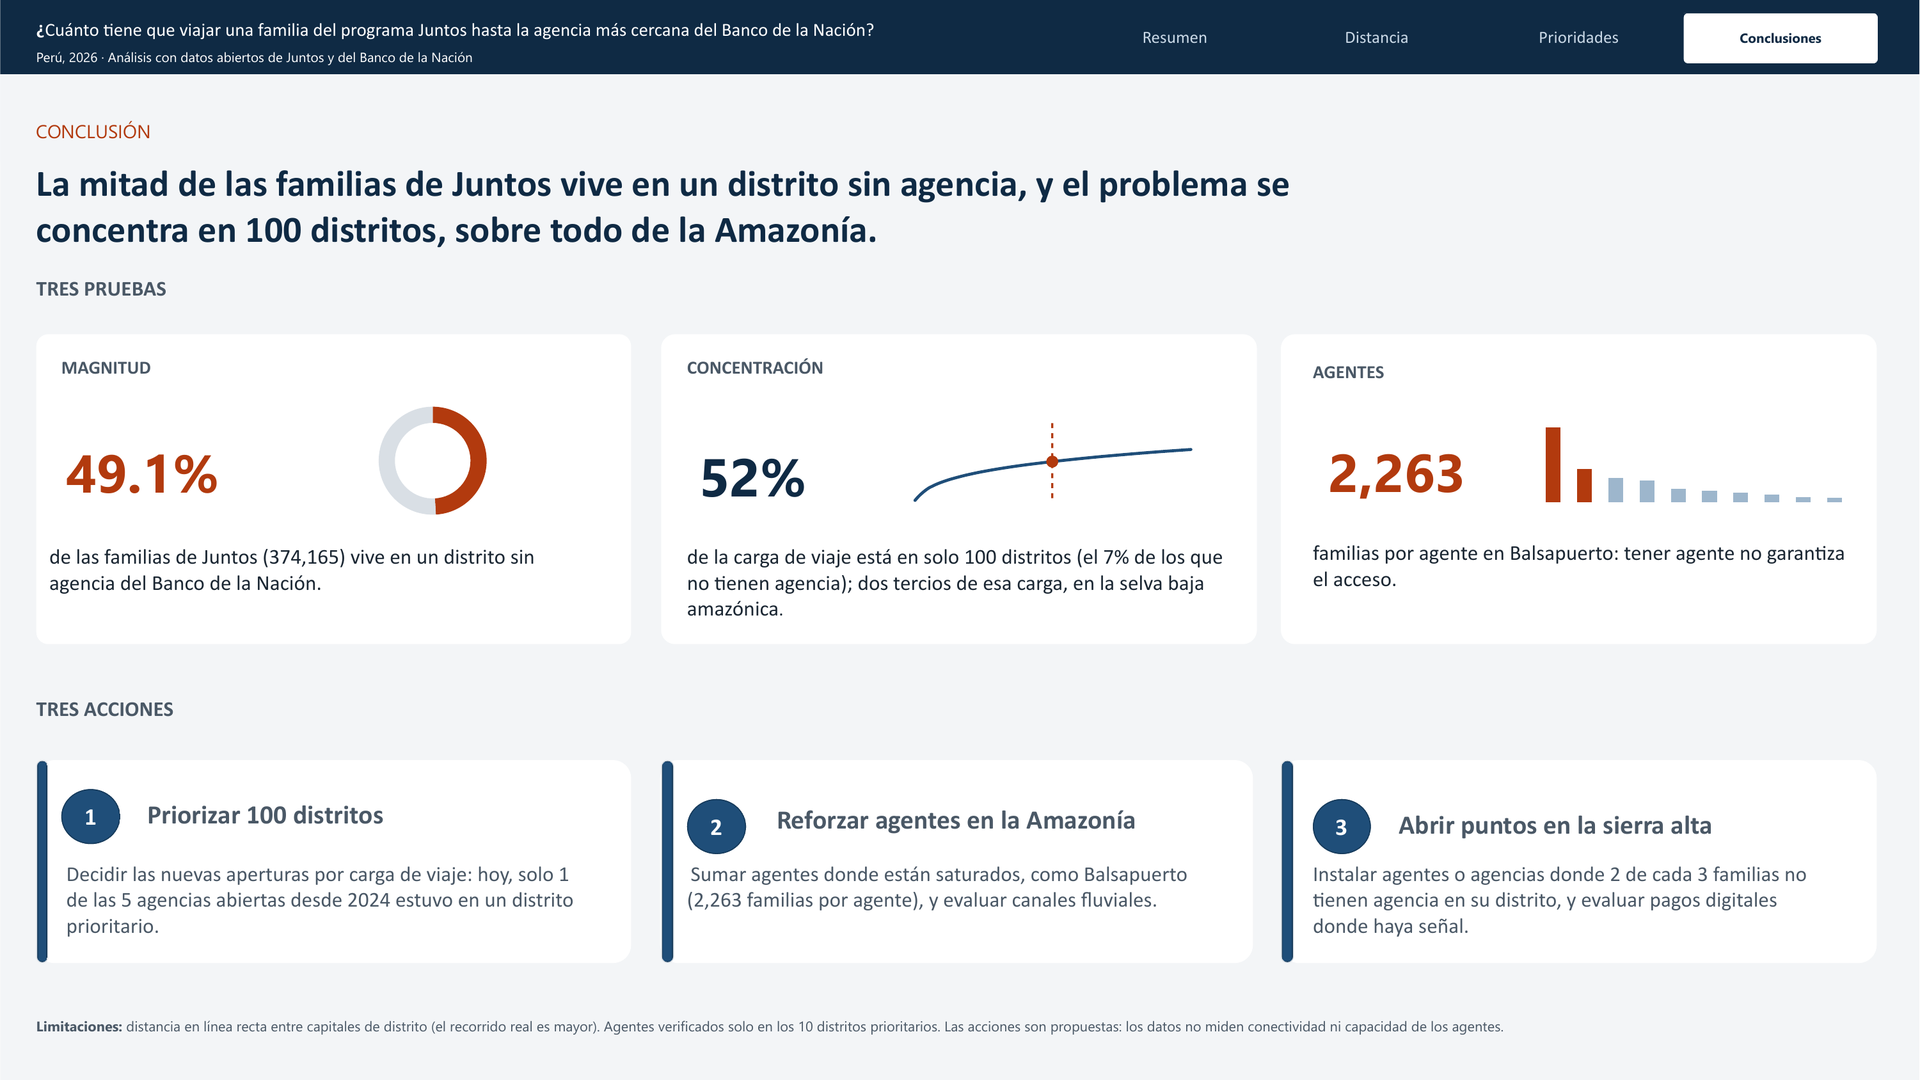

The dashboard page shown, as its layout file describes it:
{"tool":"powerbi","page":{"name":"Conclusiones","canvas":[1920,1080],"ordinal":3},"visuals":[{"type":"shape","box":[0,0,1920,74.3],"z":0},{"type":"textbox","box":[36.2,117.5,1276.2,138.8],"z":1000},{"type":"shape","box":[35.7,334.3,595.7,310],"z":2000},{"type":"shape","box":[661.4,334.3,595.7,310],"z":3000},{"type":"shape","box":[1281.4,334.3,595.7,310],"z":4000},{"type":"textbox","box":[35.7,275.7,158.6,34.3],"z":5000},{"type":"textbox","box":[61.4,355.7,171.4,45.7],"z":6000},{"type":"textbox","box":[687.1,355.7,171.4,50],"z":7000},{"type":"textbox","box":[1312.9,360,171.4,45.7],"z":8000},{"type":"card","fields":{"Values":["resultado_distrito.% sin agencia"]},"box":[35.7,411.4,212.9,120],"z":9000},{"type":"donutChart","fields":{"Y":["resultado_distrito.Familias sin agencia","evaluacion_aperturas.Familias con agencia"]},"box":[255.7,378.6,352.9,165.7],"z":10000},{"type":"textbox","box":[48.6,544.3,547.1,60],"z":11000},{"type":"card","fields":{"Values":["evaluacion_aperturas.% carga top 100"]},"box":[647.1,405.7,211.4,138.6],"z":12000},{"type":"textbox","box":[687.1,544.3,540,102.9],"z":13000},{"type":"lineChart","title":"   100 distritos (7% de los 1,402 sin agencia) concentran el 52% de la carga de viaje","fields":{"Category":["resultado_distrito.RANKING_PRIORIDAD"],"Y":["evaluacion_aperturas.% carga acumulada","evaluacion_aperturas.Punto 100"]},"box":[888.6,401.4,328.6,117.1],"z":14000},{"type":"card","fields":{"Values":["evaluacion_aperturas.Max familias por agente"]},"box":[1254.3,401.4,287.1,138.6],"z":15000},{"type":"clusteredColumnChart","title":"Tener agente no basta: en Balsapuerto, 1 agente por cada 2,263 familias","fields":{"Category":["resultado_distrito.DISTRITO"],"Y":["resultado_distrito.Familias por agente"]},"box":[1530,380,328.6,138.6],"z":16000},{"type":"textbox","box":[1312.9,540,540,60],"z":17000},{"type":"textbox","box":[35.7,695.7,158.6,34.3],"z":18000},{"type":"shape","box":[35.7,760,595.7,202.9],"z":19000},{"type":"shape","box":[660,760,592.9,202.9],"z":20000},{"type":"shape","box":[1281.4,760,595.7,202.9],"z":21000},{"type":"shape","box":[35.8,760,12.5,202.5],"z":22000},{"type":"shape","box":[661.4,760,12.9,202.9],"z":23000},{"type":"shape","box":[1281.4,760,12.9,202.9],"z":24000},{"type":"shape","box":[61.4,788.6,58.6,55.7],"z":25000},{"type":"shape","box":[1312.9,798.6,58.6,55.7],"z":26000},{"type":"shape","box":[687.1,798.6,58.6,55.7],"z":27000},{"type":"textbox","box":[147.1,798.6,330,45.7],"z":28000},{"type":"textbox","box":[772.9,804.3,381.4,45.7],"z":29000},{"type":"textbox","box":[1398.6,808.6,478.6,45.7],"z":30000},{"type":"textbox","box":[65.7,861.4,514.3,91.4],"z":31000},{"type":"textbox","box":[687.1,861.4,514.3,64.3],"z":32000},{"type":"textbox","box":[1312.9,861.4,518.6,81.4],"z":33000},{"type":"pageNavigator","box":[1077.5,12.5,800,50],"z":34000},{"type":"textbox","box":[35.7,1017.1,1570,62.9],"z":35000},{"type":"textbox","box":[36.2,17.5,851.1,29.6],"z":35001},{"type":"textbox","box":[36.2,47.5,480,26],"z":35002}]}

Visuals, with their boxes in screenshot pixels (x1, y1, x2, y2), scaled from the page's 1920x1080 canvas onto the 1920x1080 screenshot:
shape: [left=0, top=0, right=1919, bottom=74]
textbox: [left=36, top=118, right=1312, bottom=256]
shape: [left=36, top=334, right=631, bottom=644]
shape: [left=661, top=334, right=1257, bottom=644]
shape: [left=1281, top=334, right=1877, bottom=644]
textbox: [left=36, top=276, right=194, bottom=310]
textbox: [left=61, top=356, right=233, bottom=401]
textbox: [left=687, top=356, right=858, bottom=406]
textbox: [left=1313, top=360, right=1484, bottom=406]
card - resultado_distrito.% sin agencia: [left=36, top=411, right=249, bottom=531]
donutChart - resultado_distrito.Familias sin agencia x evaluacion_aperturas.Familias con agencia: [left=256, top=379, right=609, bottom=544]
textbox: [left=49, top=544, right=596, bottom=604]
card - evaluacion_aperturas.% carga top 100: [left=647, top=406, right=858, bottom=544]
textbox: [left=687, top=544, right=1227, bottom=647]
"   100 distritos (7% de los 1,402 sin agencia) concentran el 52% de la carga de viaje" lineChart: [left=889, top=401, right=1217, bottom=518]
card - evaluacion_aperturas.Max familias por agente: [left=1254, top=401, right=1541, bottom=540]
"Tener agente no basta: en Balsapuerto, 1 agente por cada 2,263 familias" clusteredColumnChart: [left=1530, top=380, right=1859, bottom=519]
textbox: [left=1313, top=540, right=1853, bottom=600]
textbox: [left=36, top=696, right=194, bottom=730]
shape: [left=36, top=760, right=631, bottom=963]
shape: [left=660, top=760, right=1253, bottom=963]
shape: [left=1281, top=760, right=1877, bottom=963]
shape: [left=36, top=760, right=48, bottom=962]
shape: [left=661, top=760, right=674, bottom=963]
shape: [left=1281, top=760, right=1294, bottom=963]
shape: [left=61, top=789, right=120, bottom=844]
shape: [left=1313, top=799, right=1372, bottom=854]
shape: [left=687, top=799, right=746, bottom=854]
textbox: [left=147, top=799, right=477, bottom=844]
textbox: [left=773, top=804, right=1154, bottom=850]
textbox: [left=1399, top=809, right=1877, bottom=854]
textbox: [left=66, top=861, right=580, bottom=953]
textbox: [left=687, top=861, right=1201, bottom=926]
textbox: [left=1313, top=861, right=1832, bottom=943]
pageNavigator: [left=1078, top=12, right=1878, bottom=62]
textbox: [left=36, top=1017, right=1606, bottom=1079]
textbox: [left=36, top=18, right=887, bottom=47]
textbox: [left=36, top=48, right=516, bottom=74]
